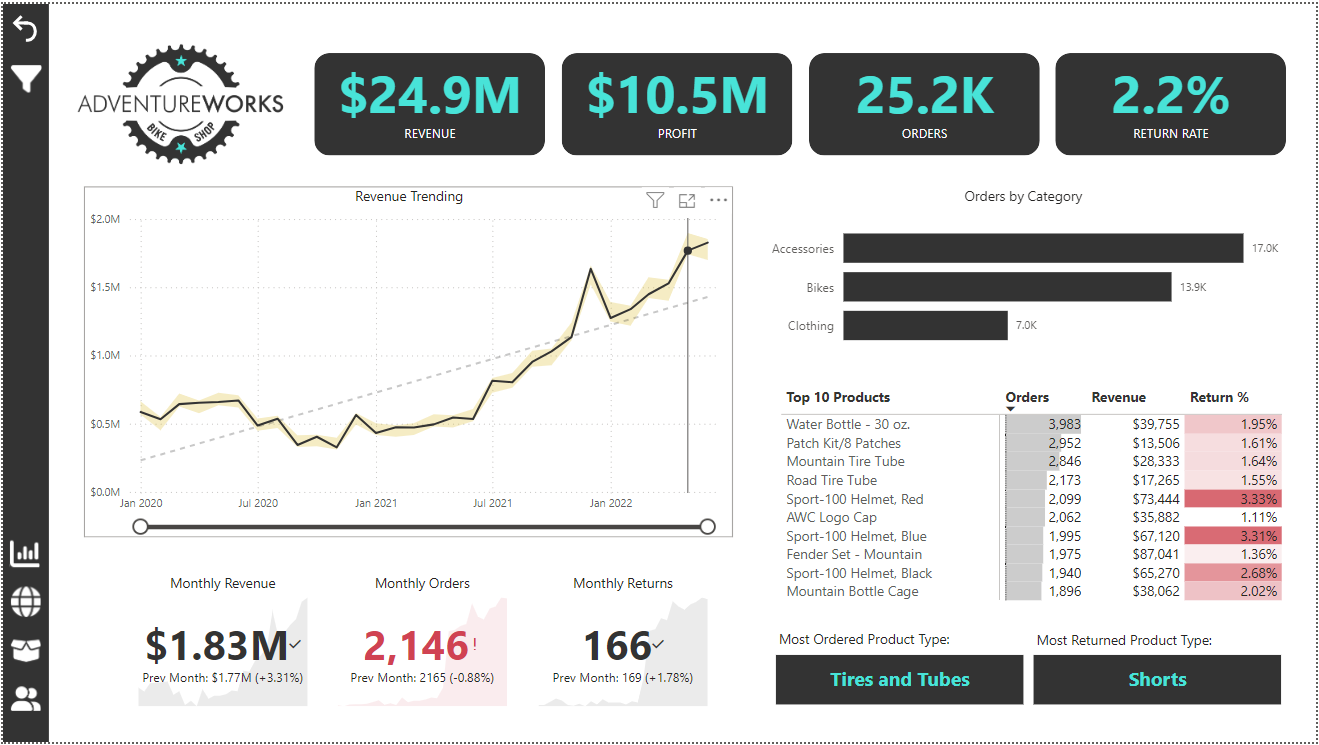

What the dashboard file says about the page in this screenshot:
{"tool":"powerbi","page":{"name":"Exec Dashboard","canvas":[1280,720],"ordinal":0},"visuals":[{"type":"card","fields":{"Values":["Measure Table.Total Revenue"]},"box":[288.1,17.8,256.2,150],"z":0,"group":"g2"},{"type":"image","title":"AW Logo","box":[45.6,26.6,256.2,141.2],"z":0},{"type":"shape","box":[303.1,47.8,225,100],"z":0,"group":"g1"},{"type":"actionButton","box":[2.5,516.7,45.6,37.8],"z":0,"group":"g3"},{"type":"card","fields":{"Values":["Measure Table.Total Profit"]},"box":[528.9,17.8,256.2,150],"z":1000,"group":"g2"},{"type":"shape","box":[543.9,47.8,225,100],"z":1000,"group":"g1"},{"type":"actionButton","box":[3.3,563.4,45.6,37.8],"z":1000,"group":"g3"},{"type":"card","fields":{"Values":["Measure Table.Total Orders"]},"box":[769.8,17.8,256.2,150],"z":2000,"group":"g2"},{"type":"group","id":"g1","title":"KPI Backgrounds","box":[303.1,47.8,947.5,100],"z":2000},{"type":"shape","box":[784.8,47.8,225,100],"z":2000,"group":"g1"},{"type":"actionButton","box":[3.3,611.1,45.6,37.8],"z":2000,"group":"g3"},{"type":"shape","title":"Left Nav Background","box":[0,0,45,720],"z":3000},{"type":"card","fields":{"Values":["Measure Table.Return Rate"]},"box":[1010.6,17.8,256.2,150],"z":3000,"group":"g2"},{"type":"shape","box":[1025.6,47.8,225,100],"z":3000,"group":"g1"},{"type":"actionButton","box":[3.3,657.8,45.6,37.8],"z":3000,"group":"g3"},{"type":"group","id":"g2","title":"KPI Values","box":[288.1,17.8,978.8,150],"z":4000},{"type":"lineChart","title":"Revenue Trending","fields":{"Y":["Measure Table.Total Revenue"],"Category":["Calendar Lookup.Start of Month"]},"box":[78.9,177.7,633.8,342.5],"z":5000},{"type":"kpi","title":"Monthly Revenue","fields":{"Indicator":["Measure Table.Total Revenue"],"TrendLine":["Calendar Lookup.Start of Month"],"Goal":["Measure Table.Previous Month Revenue"]},"box":[126.2,555,175,133.8],"z":6000},{"type":"kpi","title":"Monthly Orders","fields":{"TrendLine":["Calendar Lookup.Start of Month"],"Indicator":["Measure Table.Total Orders"],"Goal":["Measure Table.Previous Month Orders"]},"box":[321.2,555,175,133.8],"z":7000},{"type":"kpi","title":"Monthly Returns","fields":{"TrendLine":["Calendar Lookup.Start of Month"],"Indicator":["Measure Table.Total Returns"],"Goal":["Measure Table.Previous Month Returns"]},"box":[516.2,555,175,133.8],"z":8000},{"type":"clusteredBarChart","title":"Orders by Category","fields":{"Category":["Product Categories Lookup.CategoryName"],"Y":["Measure Table.Total Orders"]},"box":[738.9,177.7,511.2,171.2],"z":9000},{"type":"pivotTable","fields":{"Rows":["Product Lookup.ProductName"],"Values":["Measure Table.Total Orders","Measure Table.Total Revenue","Measure Table.Return Rate"]},"box":[753.7,369.2,511.1,228.4],"z":10000},{"type":"card","fields":{"Values":["Min(Product Subcategories Lookup.SubcategoryName)"]},"box":[753.7,634.2,241.4,48.5],"z":11000},{"type":"textbox","box":[751.3,604.6,198.8,35.5],"z":12000},{"type":"card","fields":{"Values":["Min(Product Subcategories Lookup.SubcategoryName)"]},"box":[1004.1,634.2,241.4,48.5],"z":13000},{"type":"textbox","box":[1002.2,605.2,198.8,35.5],"z":14000},{"type":"actionButton","box":[3.3,5.6,35.6,35.6],"z":15000},{"type":"group","id":"g3","title":"Navigation Buttons","box":[2.5,516.7,46.4,178.9],"z":16000},{"type":"actionButton","box":[3.4,53.1,38.4,39.6],"z":17000}]}

Visuals, with their boxes on the page's 1280x720 design canvas (x1, y1, x2, y2). These are canvas units, not pixel positions in the 1319x745 screenshot, which may show the page scaled, cropped or inside an application window:
card - Measure Table.Total Revenue: <box>288,18,544,168</box>
"AW Logo" image: <box>46,27,302,168</box>
shape: <box>303,48,528,148</box>
actionButton: <box>2,517,48,554</box>
card - Measure Table.Total Profit: <box>529,18,785,168</box>
shape: <box>544,48,769,148</box>
actionButton: <box>3,563,49,601</box>
card - Measure Table.Total Orders: <box>770,18,1026,168</box>
"KPI Backgrounds" group: <box>303,48,1251,148</box>
shape: <box>785,48,1010,148</box>
actionButton: <box>3,611,49,649</box>
"Left Nav Background" shape: <box>0,0,45,720</box>
card - Measure Table.Return Rate: <box>1011,18,1267,168</box>
shape: <box>1026,48,1251,148</box>
actionButton: <box>3,658,49,696</box>
"KPI Values" group: <box>288,18,1267,168</box>
"Revenue Trending" lineChart: <box>79,178,713,520</box>
"Monthly Revenue" kpi: <box>126,555,301,689</box>
"Monthly Orders" kpi: <box>321,555,496,689</box>
"Monthly Returns" kpi: <box>516,555,691,689</box>
"Orders by Category" clusteredBarChart: <box>739,178,1250,349</box>
pivotTable - Product Lookup.ProductName x Measure Table.Total Orders: <box>754,369,1265,598</box>
card - Min(Product Subcategories Lookup.SubcategoryName): <box>754,634,995,683</box>
textbox: <box>751,605,950,640</box>
card - Min(Product Subcategories Lookup.SubcategoryName): <box>1004,634,1246,683</box>
textbox: <box>1002,605,1201,641</box>
actionButton: <box>3,6,39,41</box>
"Navigation Buttons" group: <box>2,517,49,696</box>
actionButton: <box>3,53,42,93</box>
